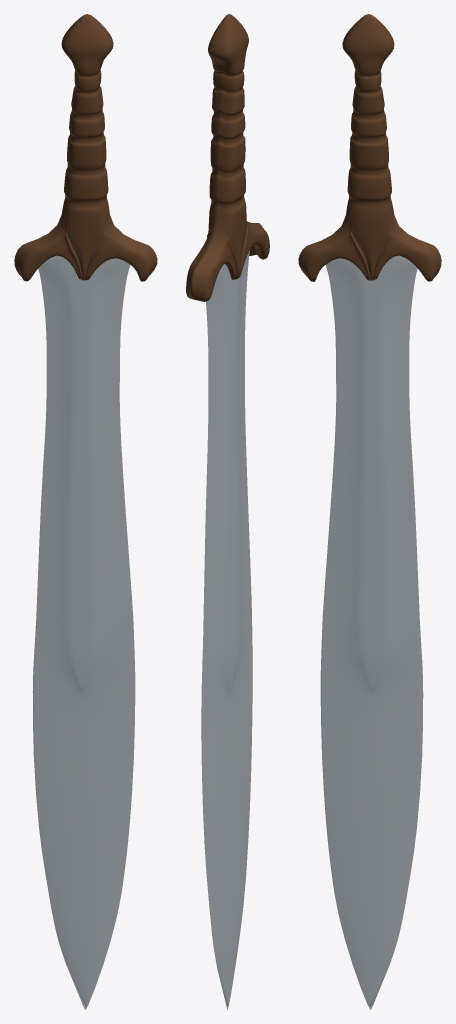
Rendered from Sword.fbx.
3 renders of one model, left to right at view 1: azimuth 90°, elevation 25°; view 2: azimuth 150°, elevation 25°; view 3: azimuth 270°, elevation 25°, orthographic.
Parts seen in each view (by area): view 1: Plane, Plane.001; view 2: Plane, Plane.001; view 3: Plane, Plane.001.
Boxes of the visible parts, left/top/right/bottom form: Plane: left=32, top=255, right=135, bottom=1009; Plane.001: left=14, top=14, right=157, bottom=281; Plane: left=201, top=250, right=252, bottom=1009; Plane.001: left=186, top=14, right=269, bottom=301; Plane: left=320, top=255, right=423, bottom=1009; Plane.001: left=298, top=14, right=441, bottom=281.
Size of the model in its own units: 22.66 by 792 by 103.
